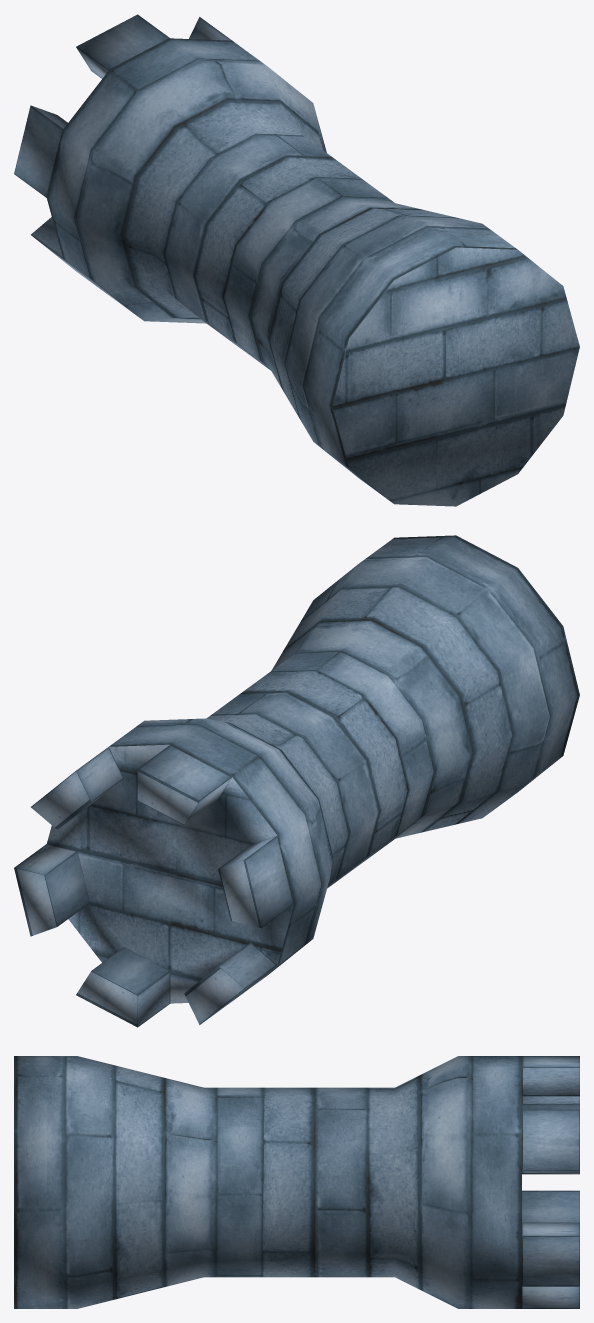
File: turret.DAE
The picture shows the model from 3 angles, top to bottom: view 1: azimuth 30°, elevation 25°; view 2: azimuth 150°, elevation 25°; view 3: azimuth 270°, elevation 25°; orthographic projection. The views are drawn at different scales.
Visible parts, largest first — view 1: Cylinder001; view 2: Cylinder001; view 3: Cylinder001.
Boxes of the visible parts, <box> form: Cylinder001: <box>14,14,579,506</box>; Cylinder001: <box>14,535,579,1027</box>; Cylinder001: <box>14,1056,579,1308</box>.
Bounding box in the file's own units: 1.6 × 3.57 × 1.6.
